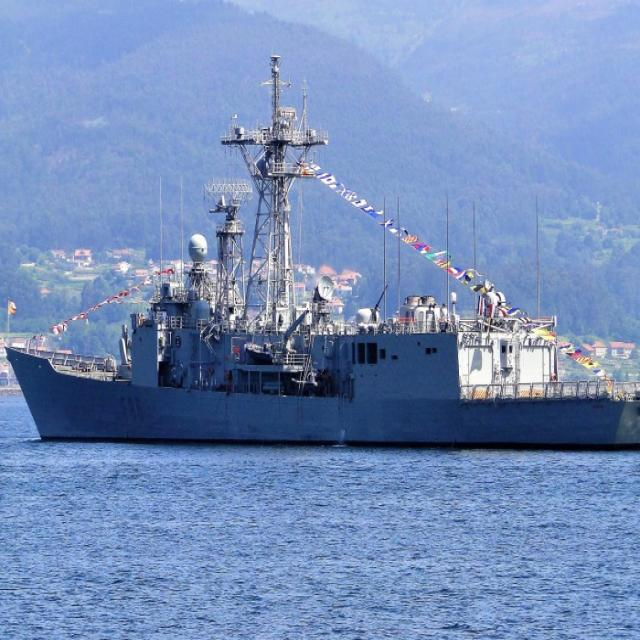Fragata: (5, 62, 640, 452)
